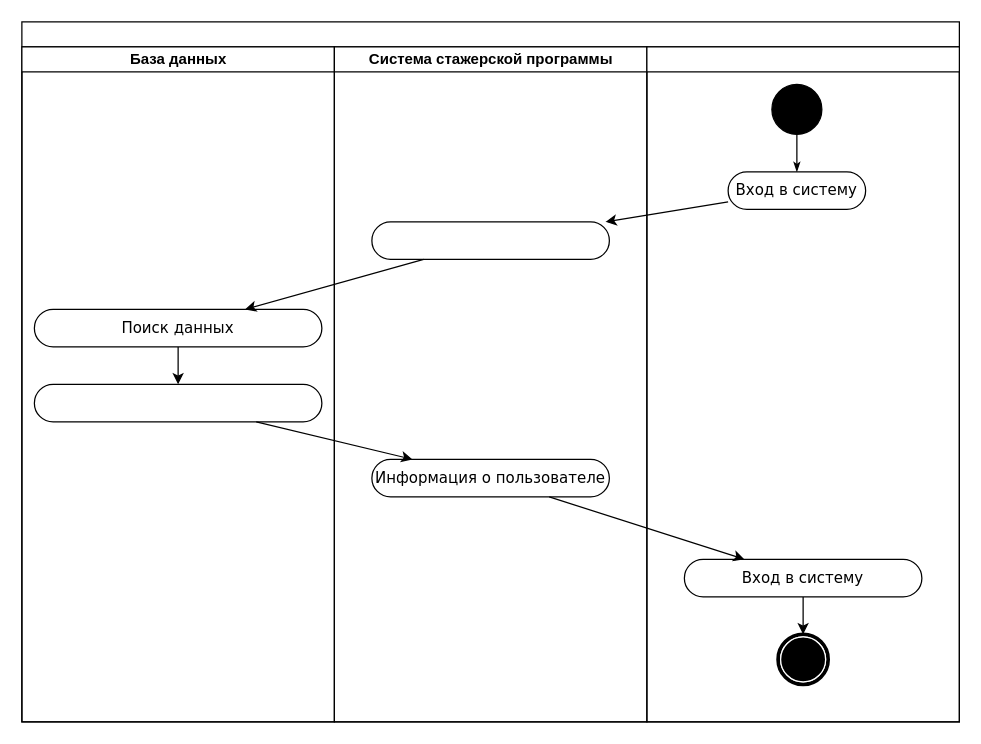
Some shapes in this 981 by 744 pixel diagram are drawn without their labels. Here are the shapes that lost their labels. From the top down, the box of each, then its label:
(371, 221, 609, 259): Запрос данных
(33, 383, 322, 422): Проверка корректности
(646, 46, 959, 722): Пользователь
